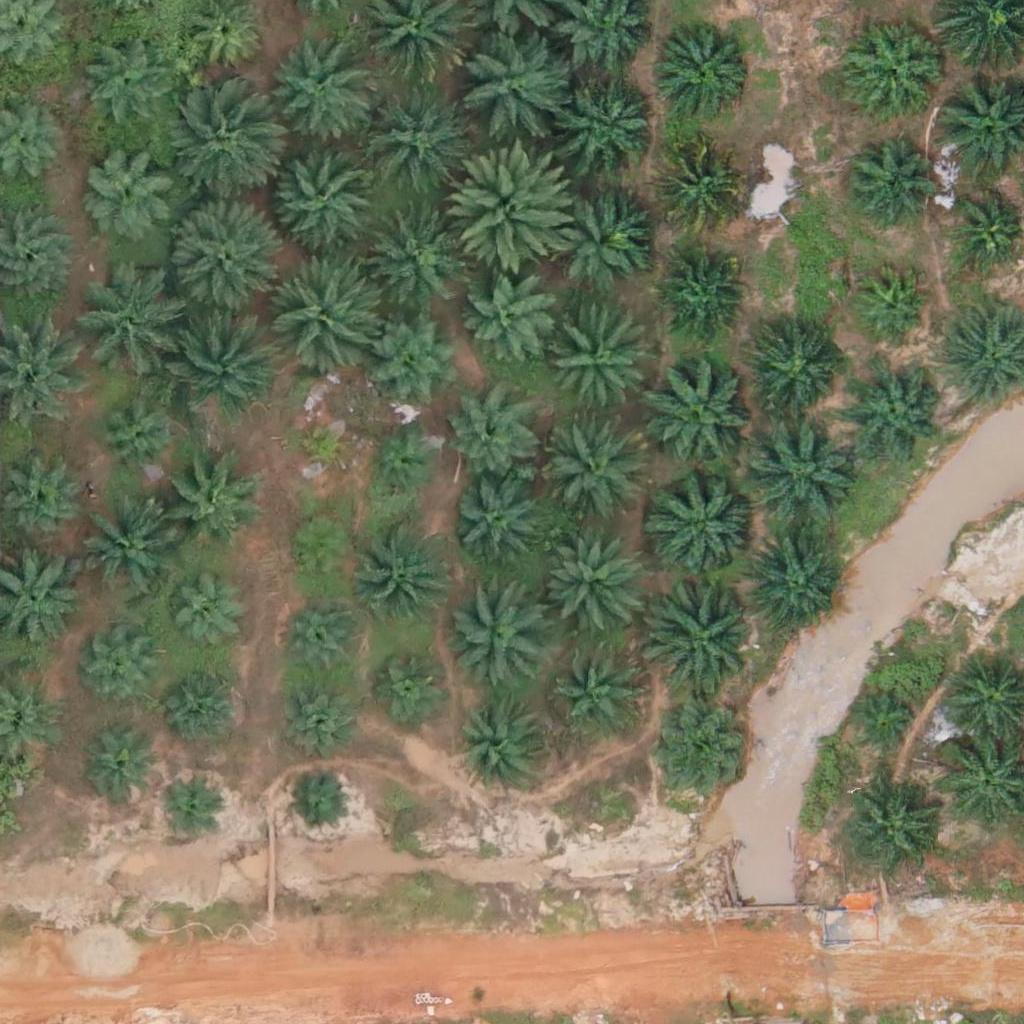Kelapa_Sawit: (452, 146, 577, 272), (454, 24, 567, 138), (743, 412, 856, 525), (644, 356, 757, 469), (648, 467, 761, 580), (360, 84, 473, 197), (267, 139, 380, 252), (164, 200, 277, 313), (164, 302, 276, 416), (647, 579, 759, 692), (260, 40, 372, 153), (265, 257, 377, 370), (162, 91, 274, 204), (742, 533, 842, 634), (842, 778, 942, 879), (654, 17, 754, 118), (650, 706, 750, 807), (561, 76, 661, 177), (547, 313, 647, 414), (542, 425, 642, 526), (538, 533, 638, 634), (364, 205, 464, 306), (366, 306, 466, 407), (158, 454, 258, 555), (72, 503, 172, 604), (72, 275, 172, 376), (357, 520, 457, 621), (845, 18, 945, 118), (848, 363, 948, 463), (546, 183, 646, 283), (449, 585, 549, 685), (79, 141, 179, 241), (842, 135, 930, 223), (753, 330, 841, 418), (653, 141, 741, 229), (446, 393, 534, 481), (271, 676, 359, 764), (93, 392, 181, 480), (449, 480, 536, 569), (79, 40, 166, 129), (656, 249, 743, 337), (556, 651, 643, 739), (458, 700, 545, 788), (464, 273, 551, 361), (281, 595, 368, 683), (164, 578, 239, 654), (166, 666, 241, 742), (365, 426, 440, 502), (854, 266, 929, 342), (284, 513, 359, 589), (372, 648, 447, 723), (84, 633, 159, 708), (82, 733, 157, 808), (848, 690, 923, 765), (155, 774, 218, 837), (288, 770, 350, 833), (291, 414, 353, 477)
